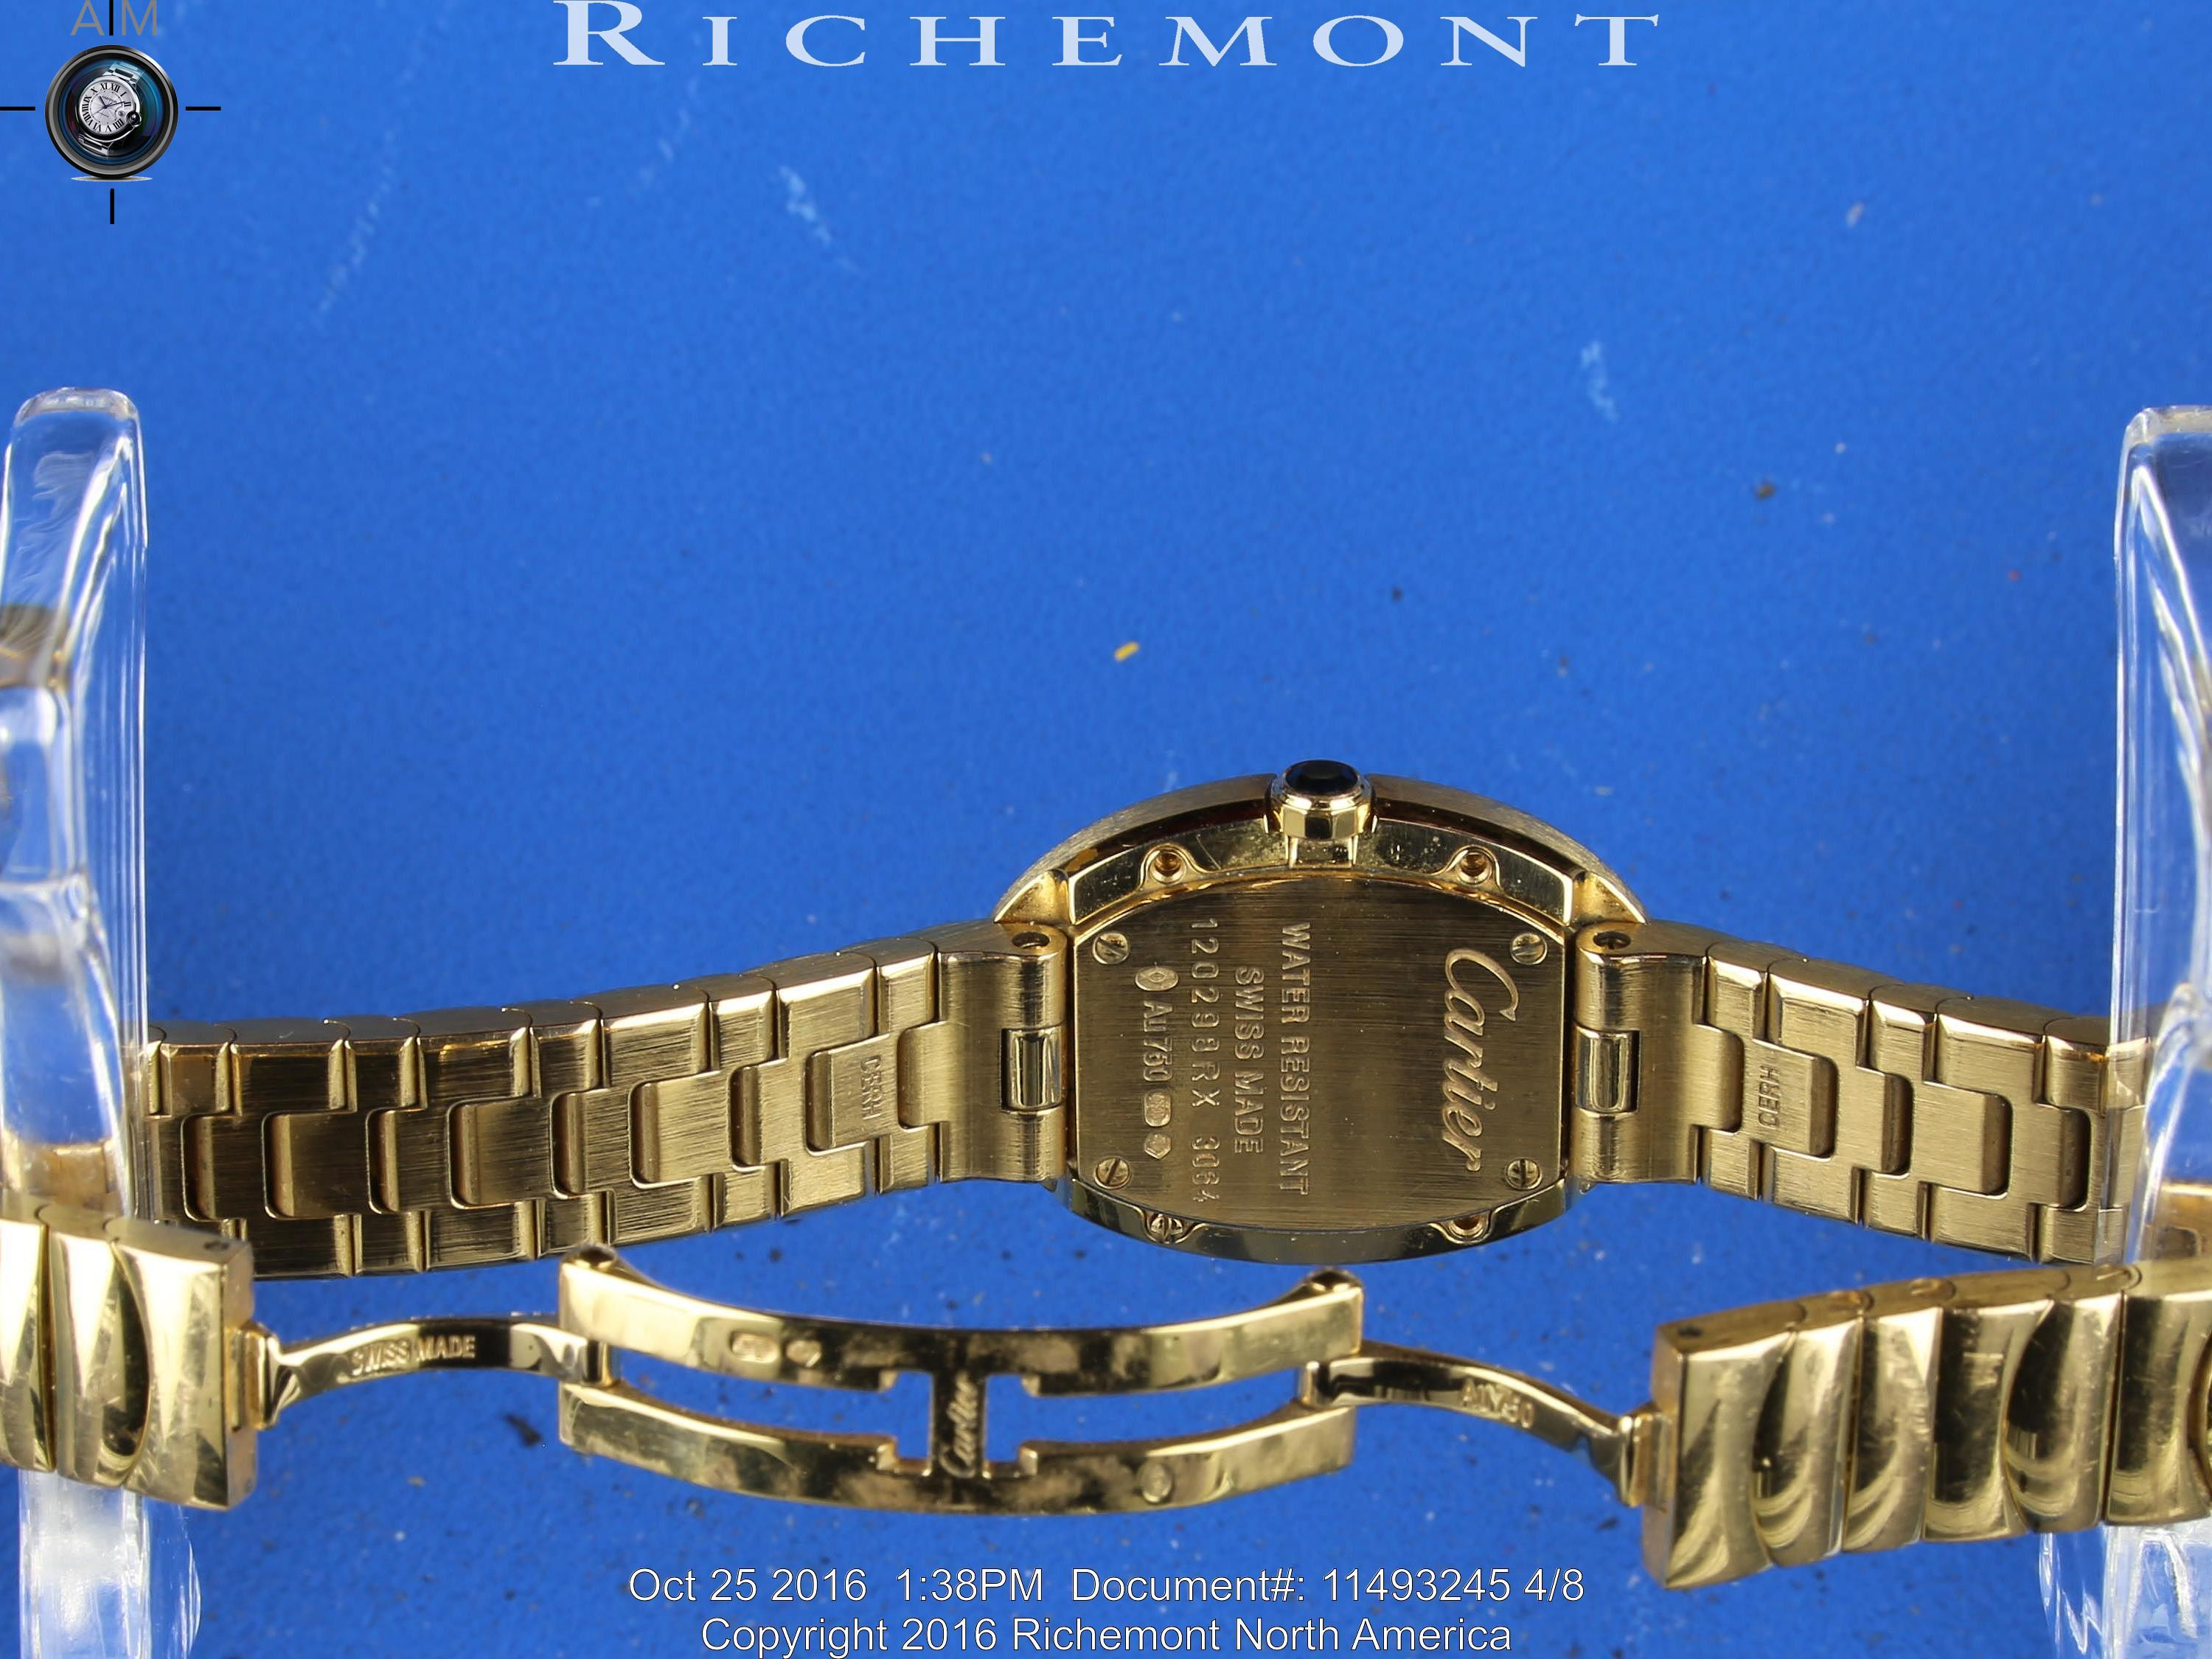Watch Back Case: (998, 753, 1641, 1270)
